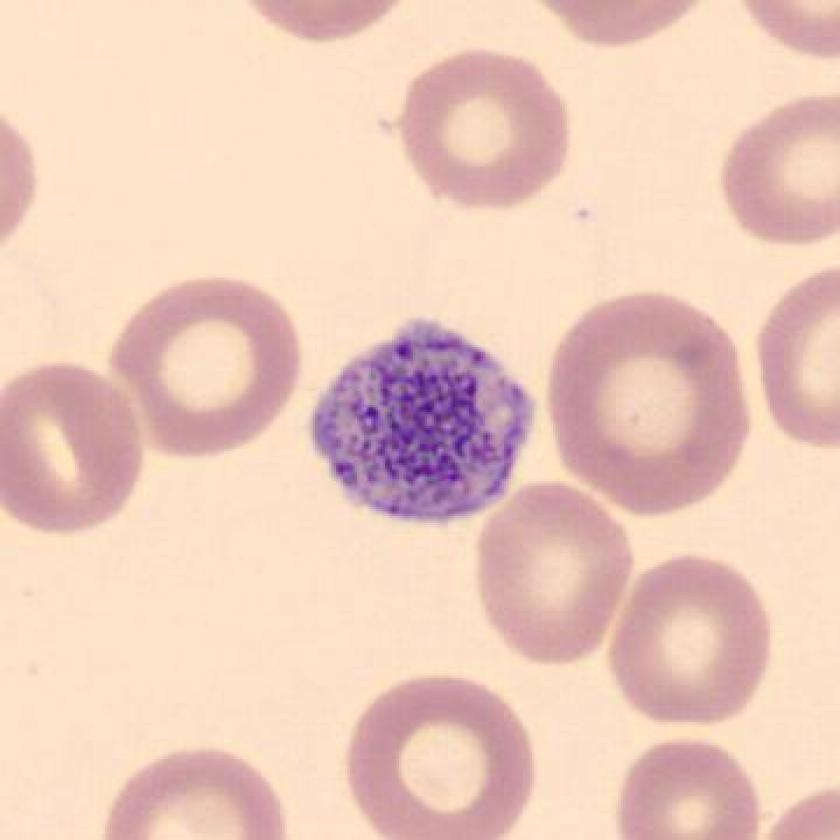platelets: (297, 314, 552, 541)
